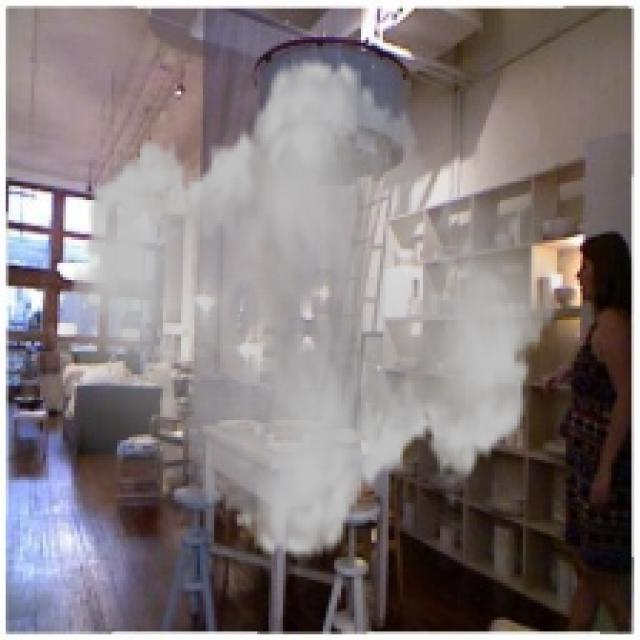smoke: (46, 37, 568, 580)
